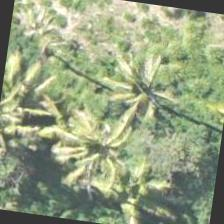Kelapa_Sawit: (89, 49, 191, 151), (47, 97, 149, 198), (0, 63, 66, 161)
